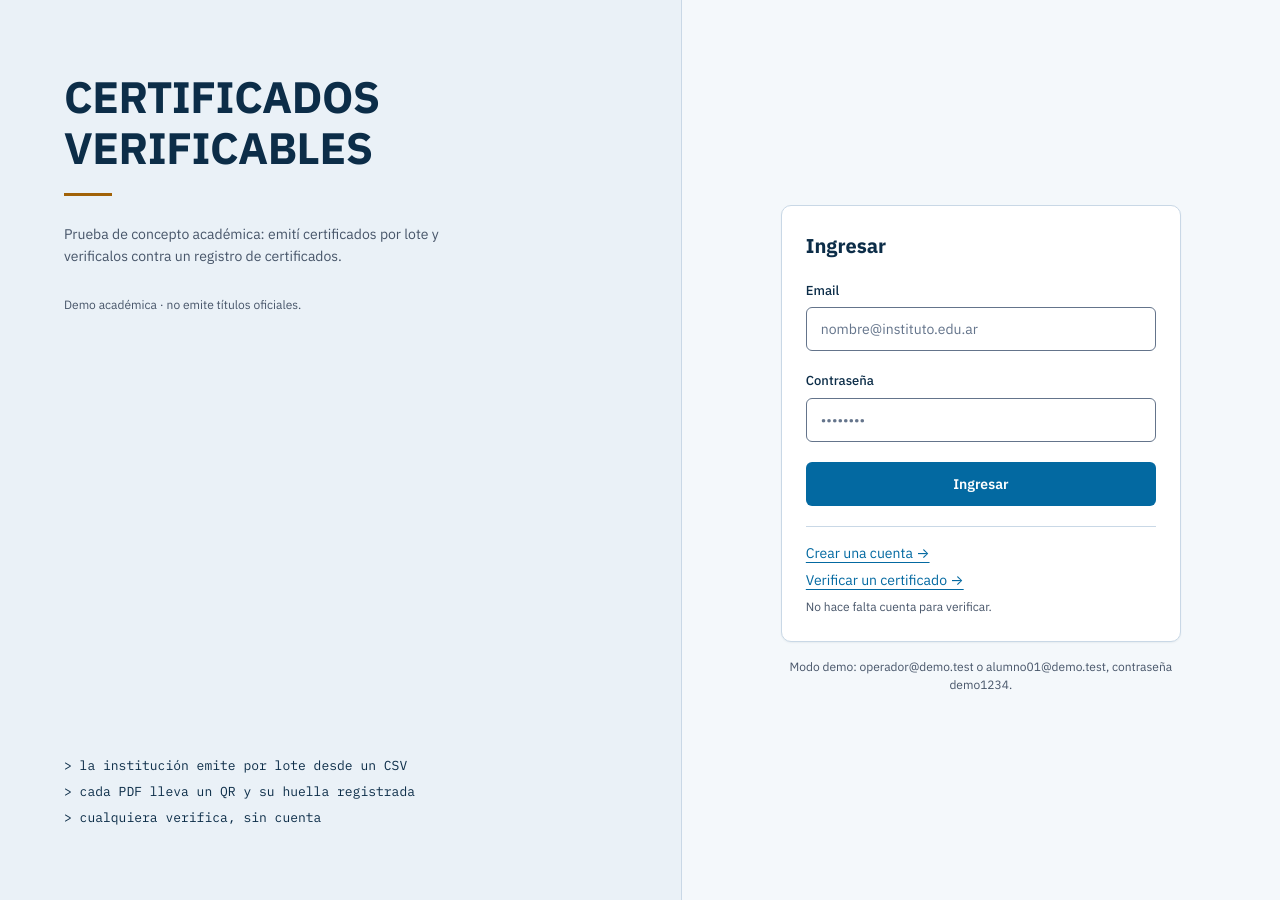
Test: login › clave incorrecta muestra el mensaje y se queda en /login
The image size is (1280, 900).
Step 1. Type "operador@demo.test" into the field labelled "Email" → [981, 329], box x1=806 y1=307 x2=1156 y2=351
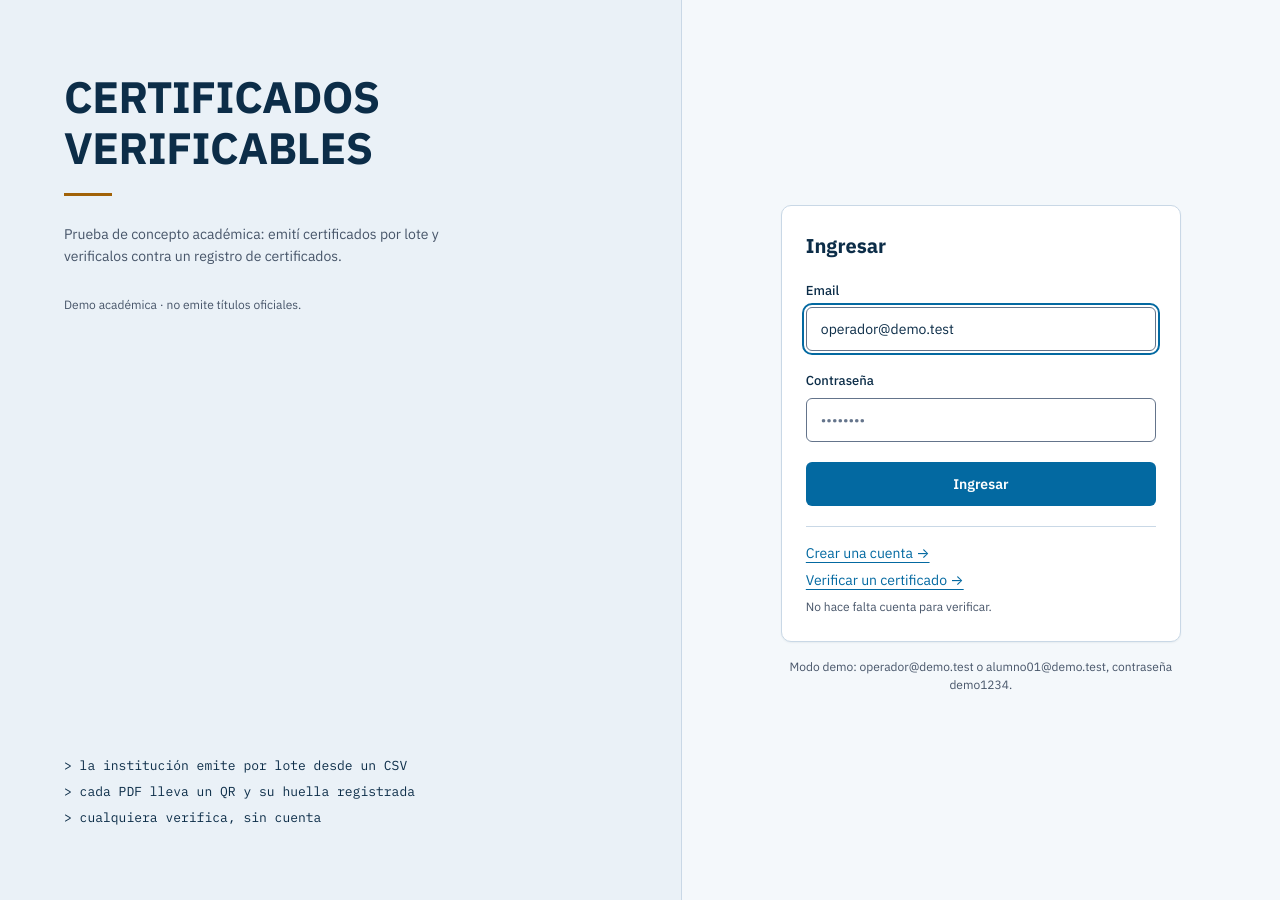
Step 2. Type "mala" into the password field labelled "Contraseña" → [981, 420], box x1=806 y1=398 x2=1156 y2=442
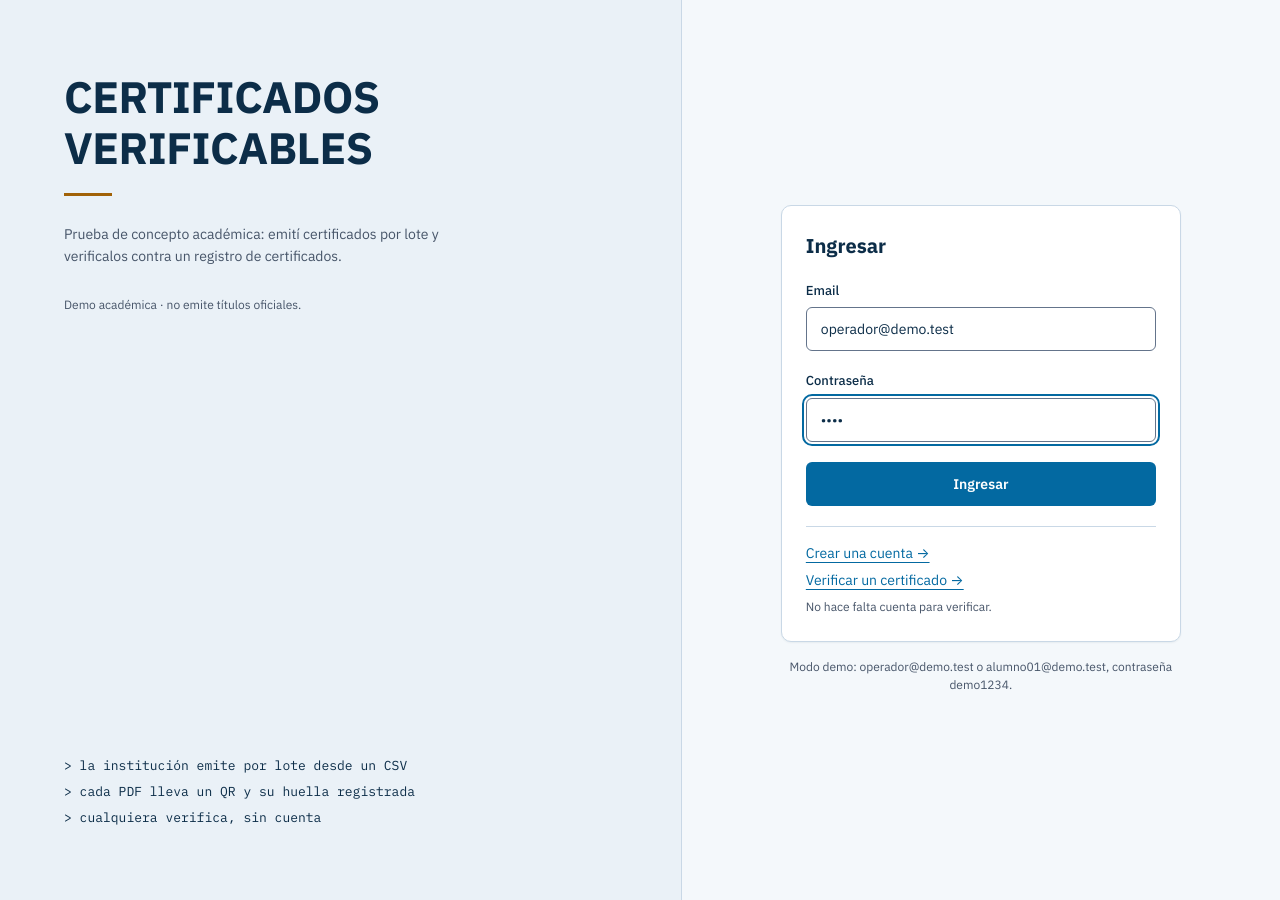
Step 3. Click the button "Ingresar" → [981, 484], box x1=806 y1=462 x2=1156 y2=506
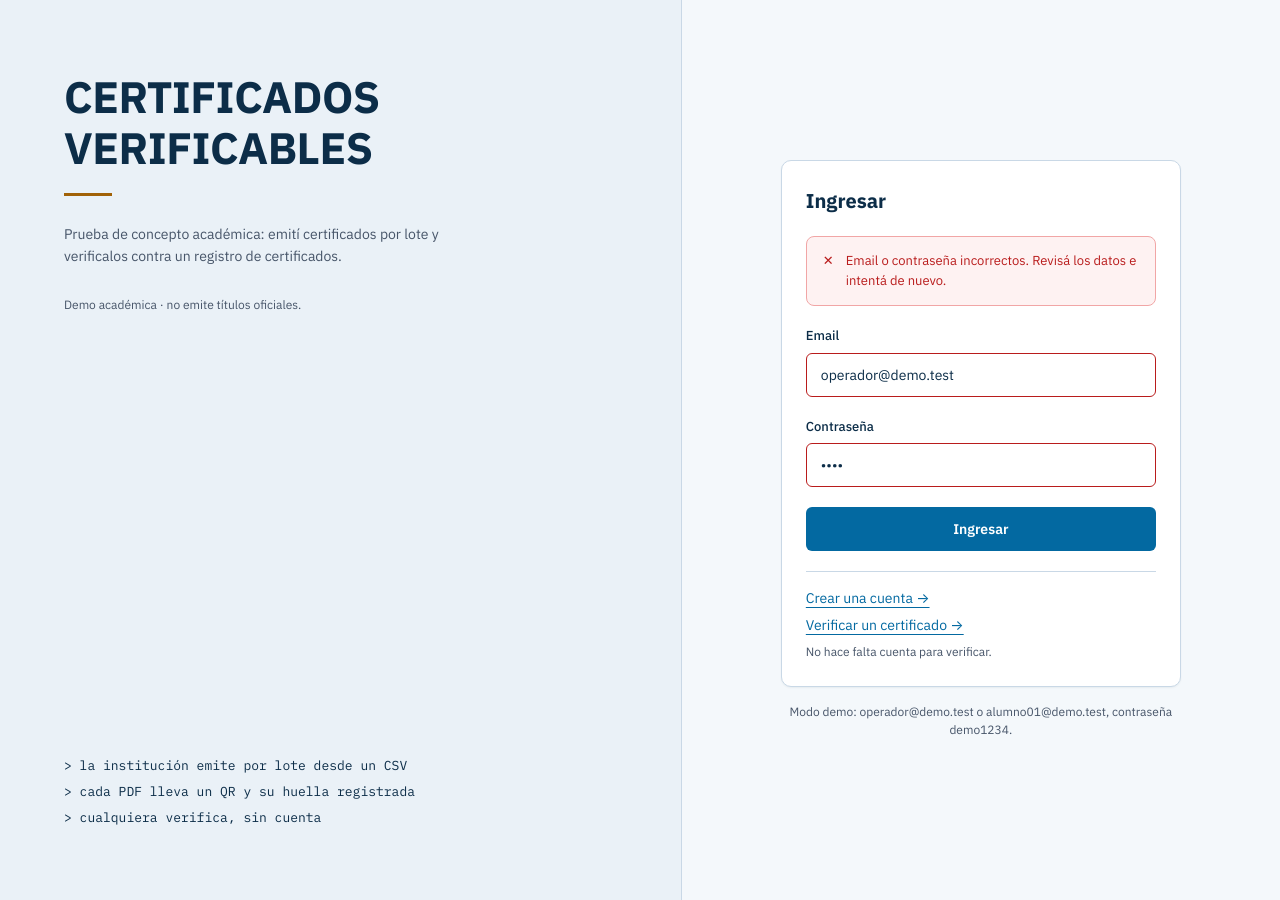
Expected: the message shows "Email o contraseña incorrectos. Revisá los datos e intentá de nuevo.", x1=846 y1=252 x2=1136 y2=289
